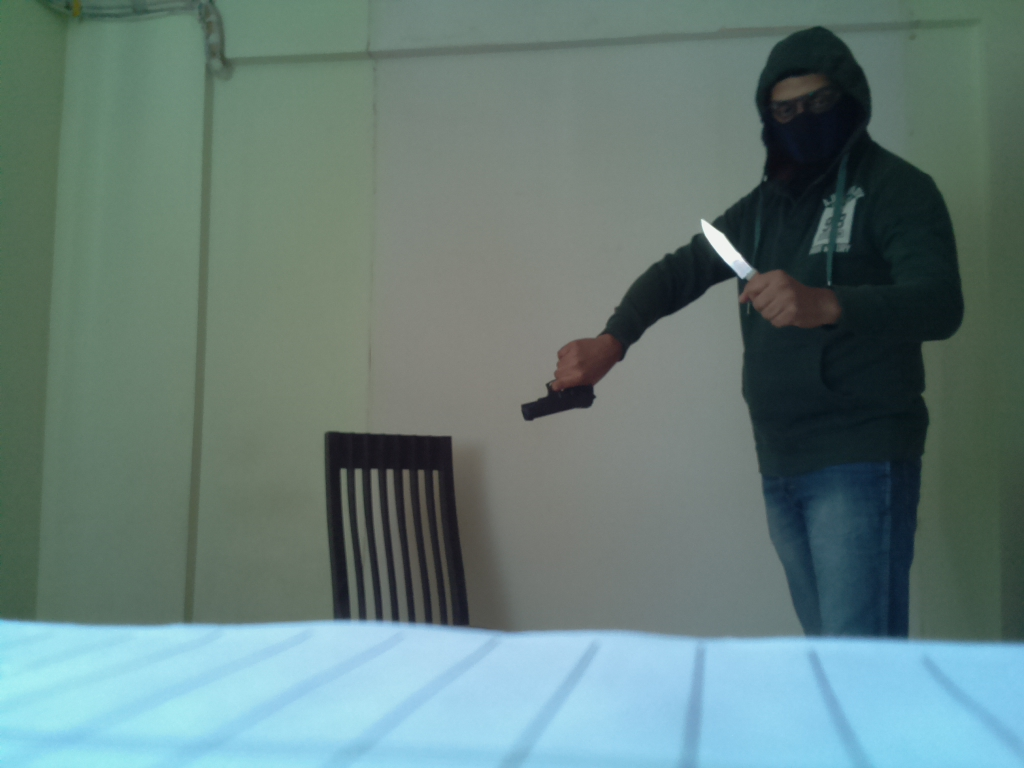gun: (509, 358, 608, 425)
knife: (695, 211, 764, 292)
